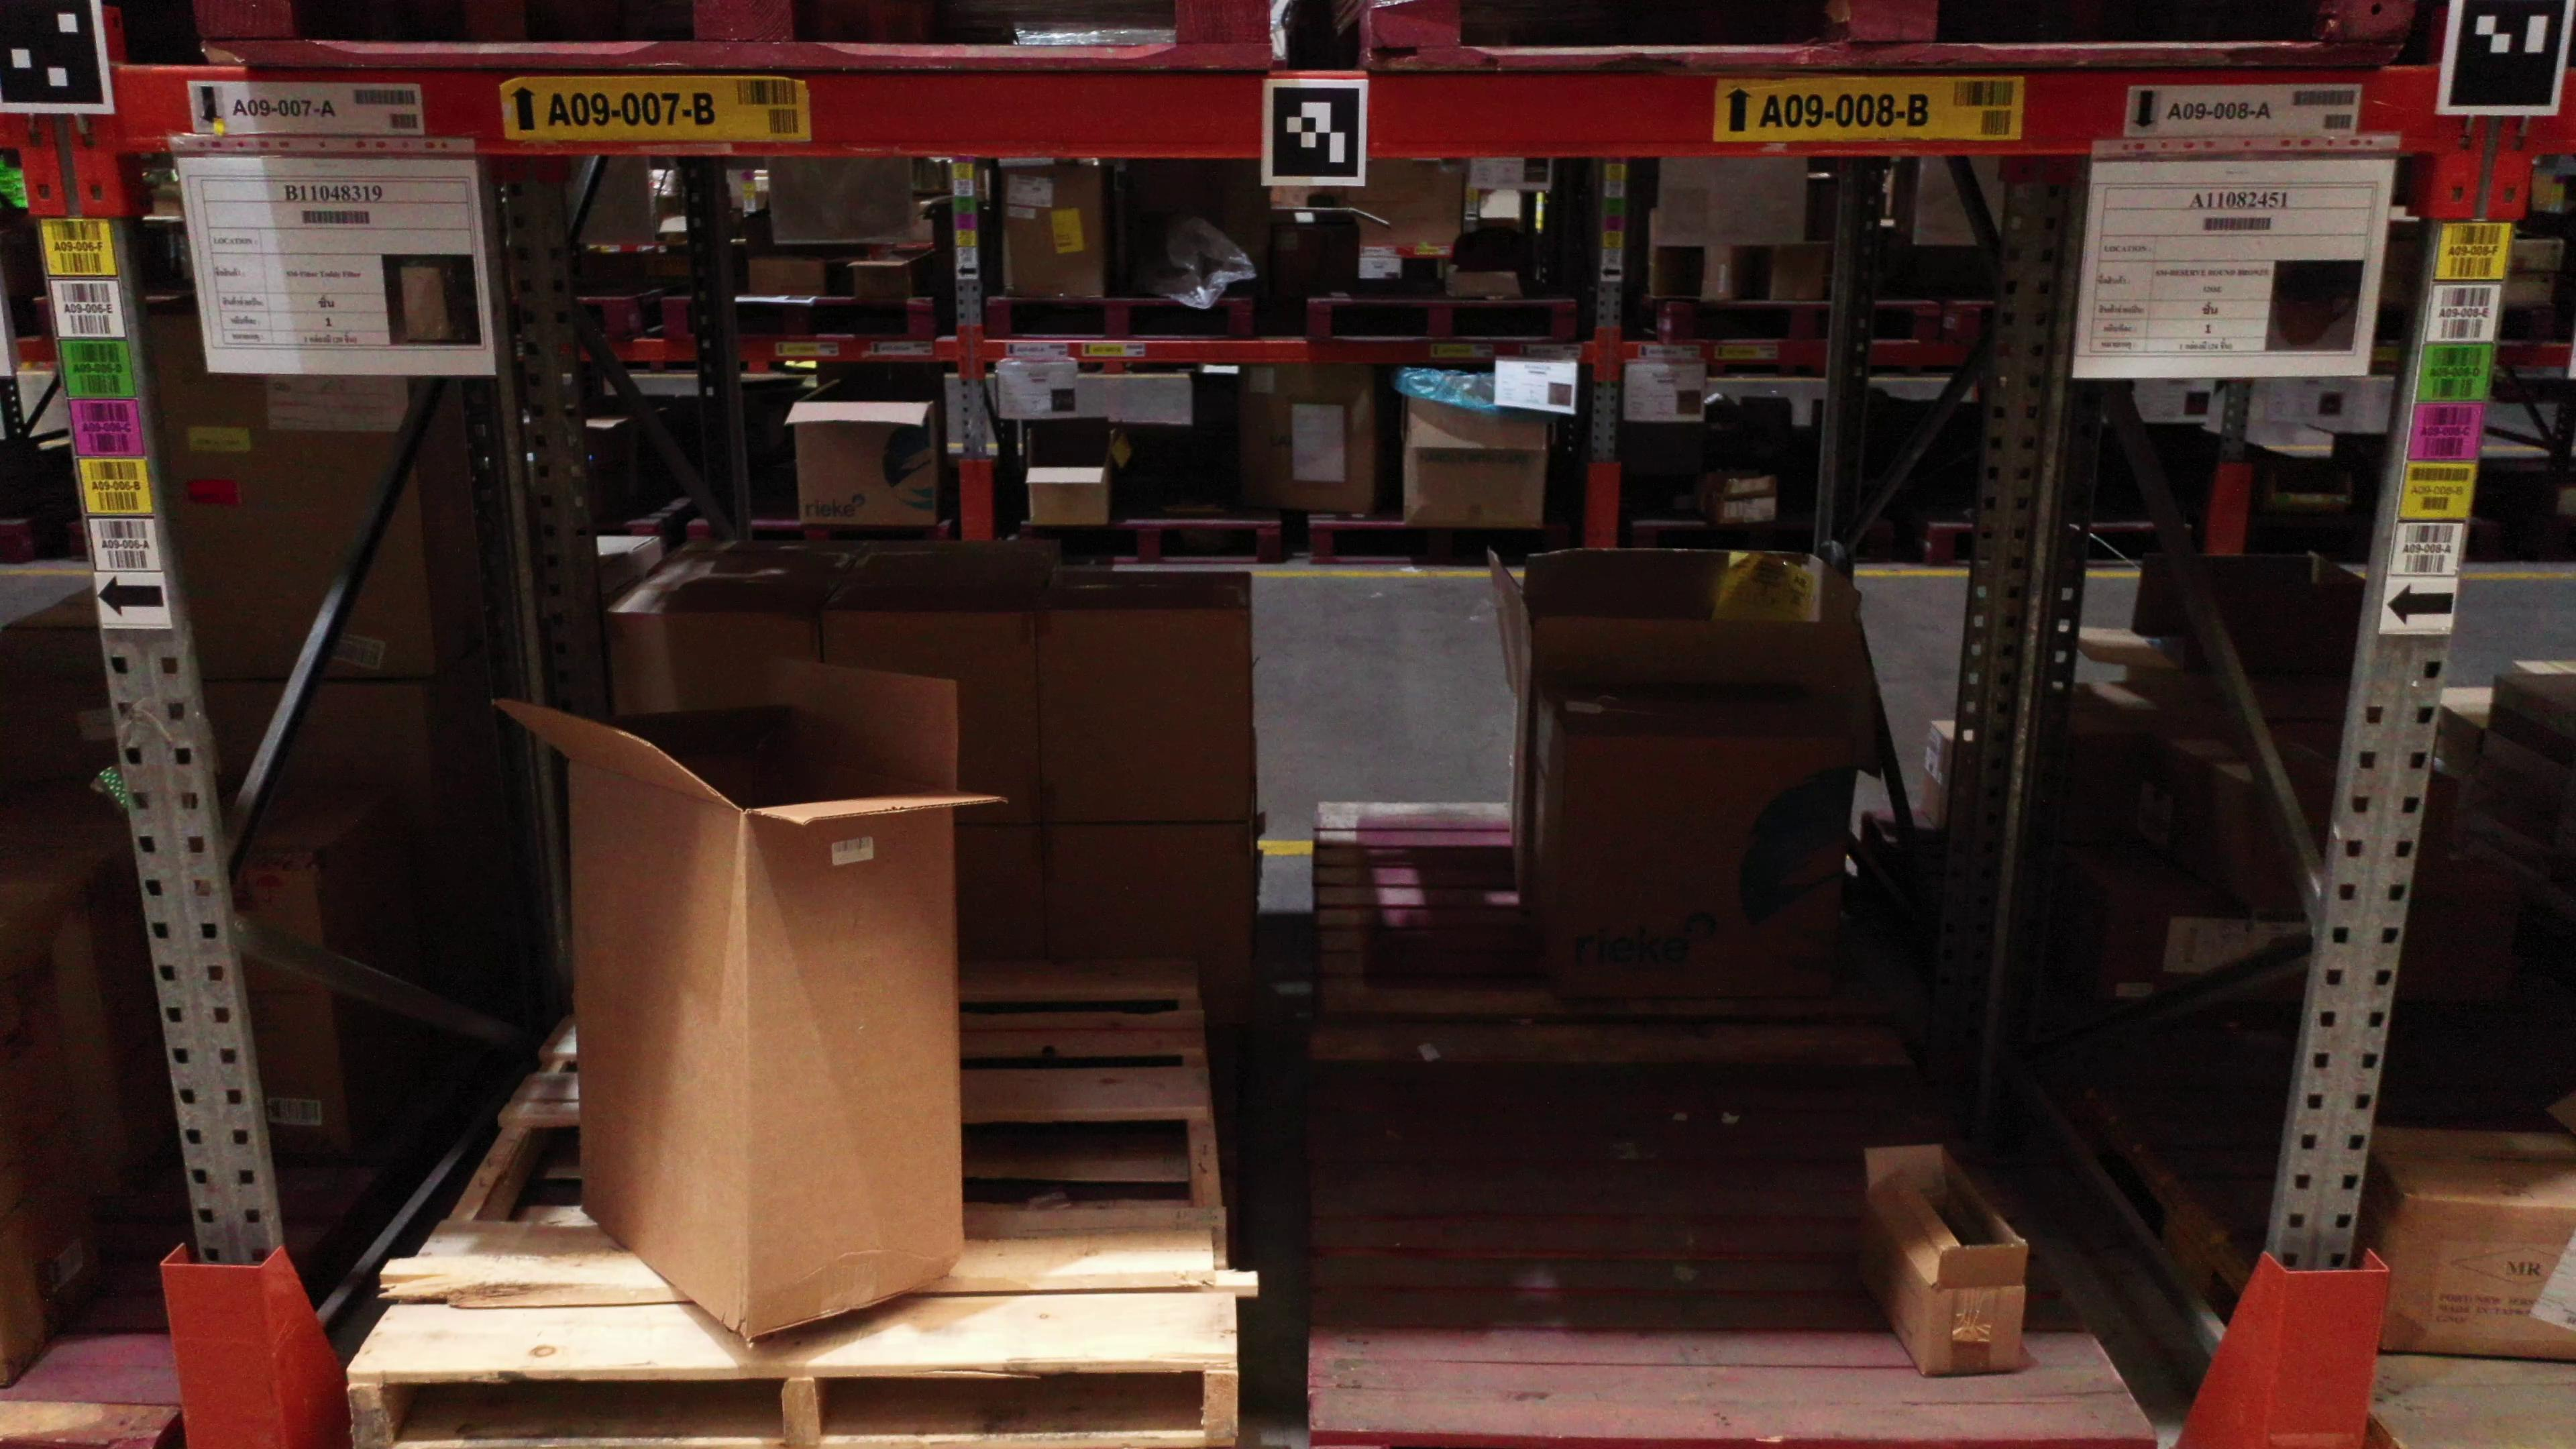-: (736, 791, 964, 1346), (2380, 1192, 2576, 1364), (1923, 1279, 2028, 1382)
box: (145, 315, 433, 685), (1552, 731, 1854, 1000), (1035, 609, 1253, 824), (1042, 824, 1253, 1026)
